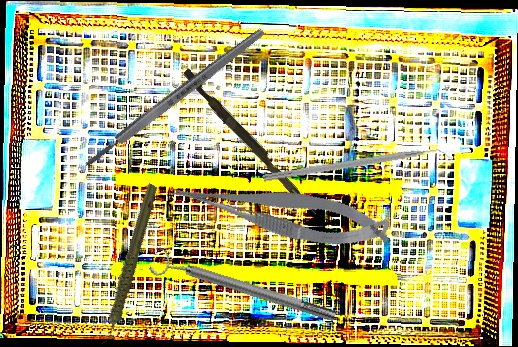Chopper: (262, 144, 453, 192)
Fixation Ring: (148, 244, 339, 332)
Handpiece: (66, 182, 189, 347)
Micro Scissor: (165, 153, 396, 267)
Pusher: (178, 68, 324, 217)
Scalpel Handle: (81, 26, 268, 170)
